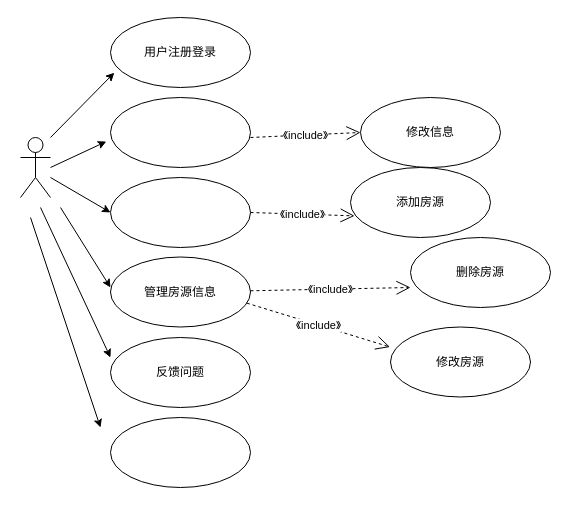
Some shapes in this 568 by 505 pixel diagram are drawn without their labels. The shapes that lost their labels are listed below. From the top down, each one's box as (x1, y1, x2, y2) in pixels, then its label:
(110, 96, 250, 168): 个人信息管理
(20, 136, 50, 198): 出租者
(110, 176, 250, 248): 发布闲置房源
(110, 416, 250, 488): 退出登录
